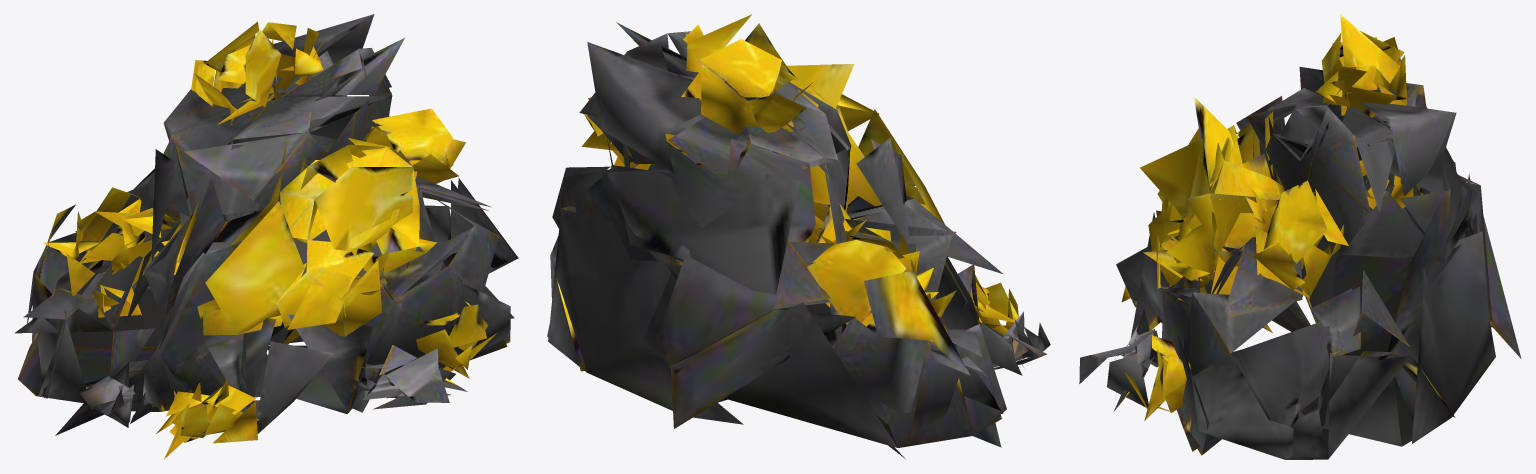
The model's file is node-sulfur-lod1.glb.
The picture shows the model from 3 angles, left to right: view 1: azimuth 30°, elevation 25°; view 2: azimuth 150°, elevation 25°; view 3: azimuth 270°, elevation 25°; orthographic projection. The views are drawn at different scales.
Visible parts, largest first — view 1: node-sulfur; view 2: node-sulfur; view 3: node-sulfur.
Part boxes in pixels (x1=…): node-sulfur: x1=14, y1=14, x2=518, y2=459; node-sulfur: x1=547, y1=14, x2=1050, y2=458; node-sulfur: x1=1079, y1=14, x2=1521, y2=459.
Size of the model in its own units: 2.55 by 1.9 by 1.97.
1 material, 1 textured.
